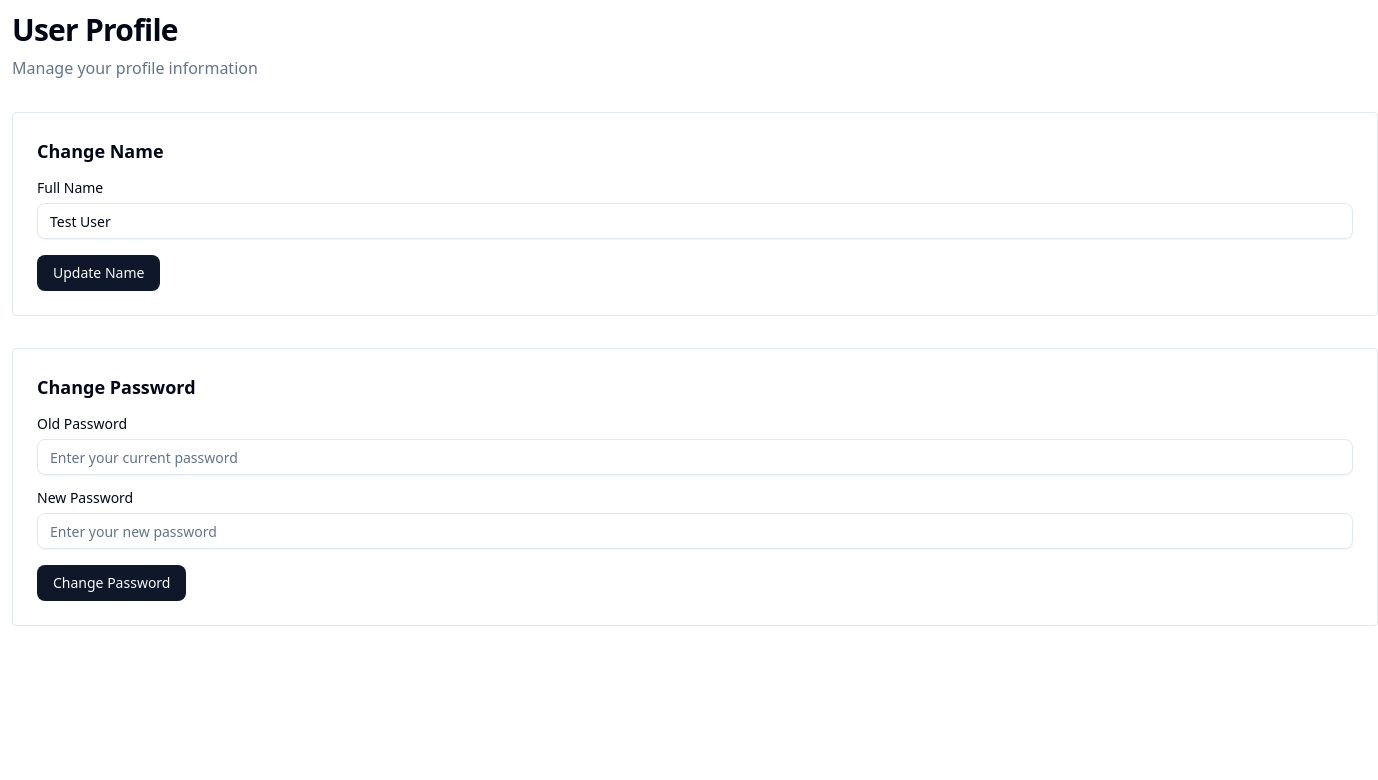
Test case: ProfilePage › shows validation error if new password is too short
Type "oldpass" into the password field labelled "Old Password".
click(695, 457); type("oldpass")  # box [37,439,1353,475]
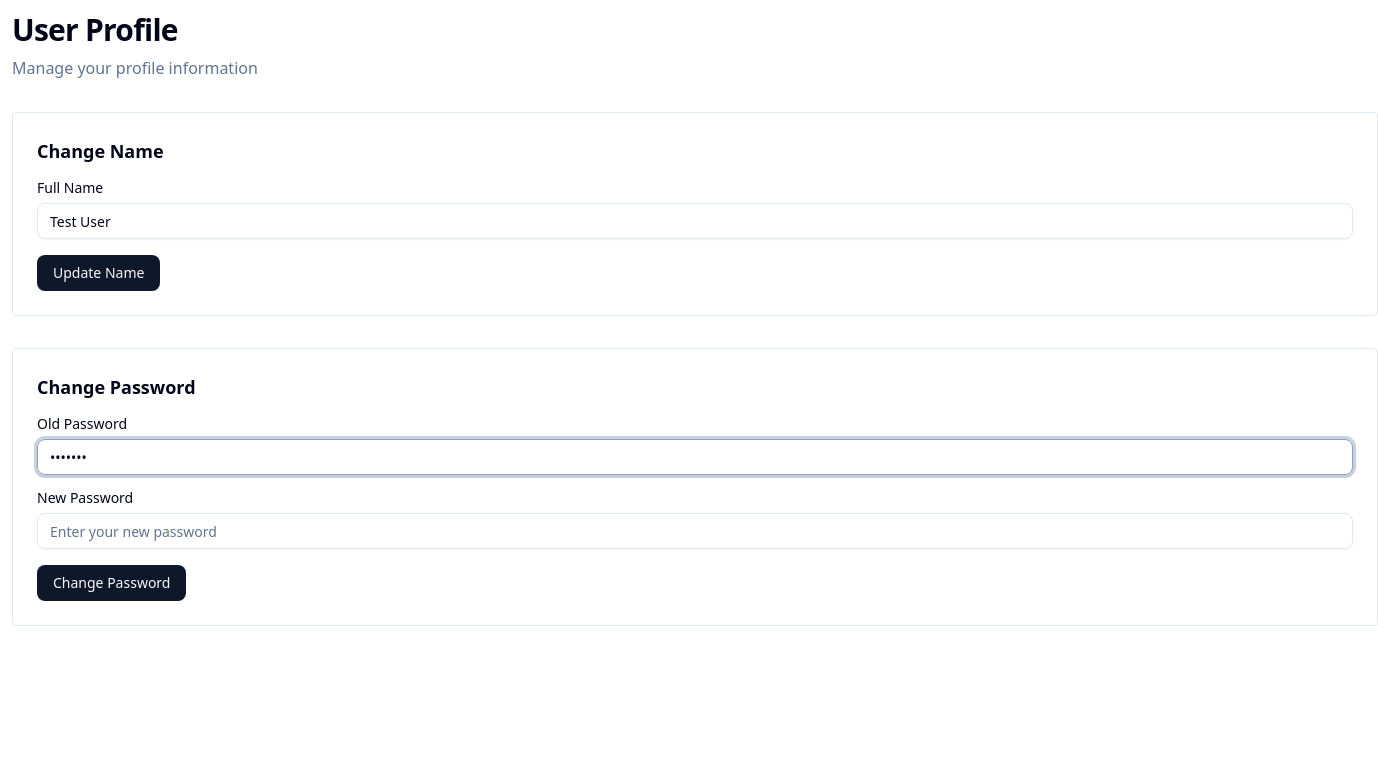
Type "123" into the password field labelled "New Password".
click(695, 531); type("123")  # box [37,513,1353,549]
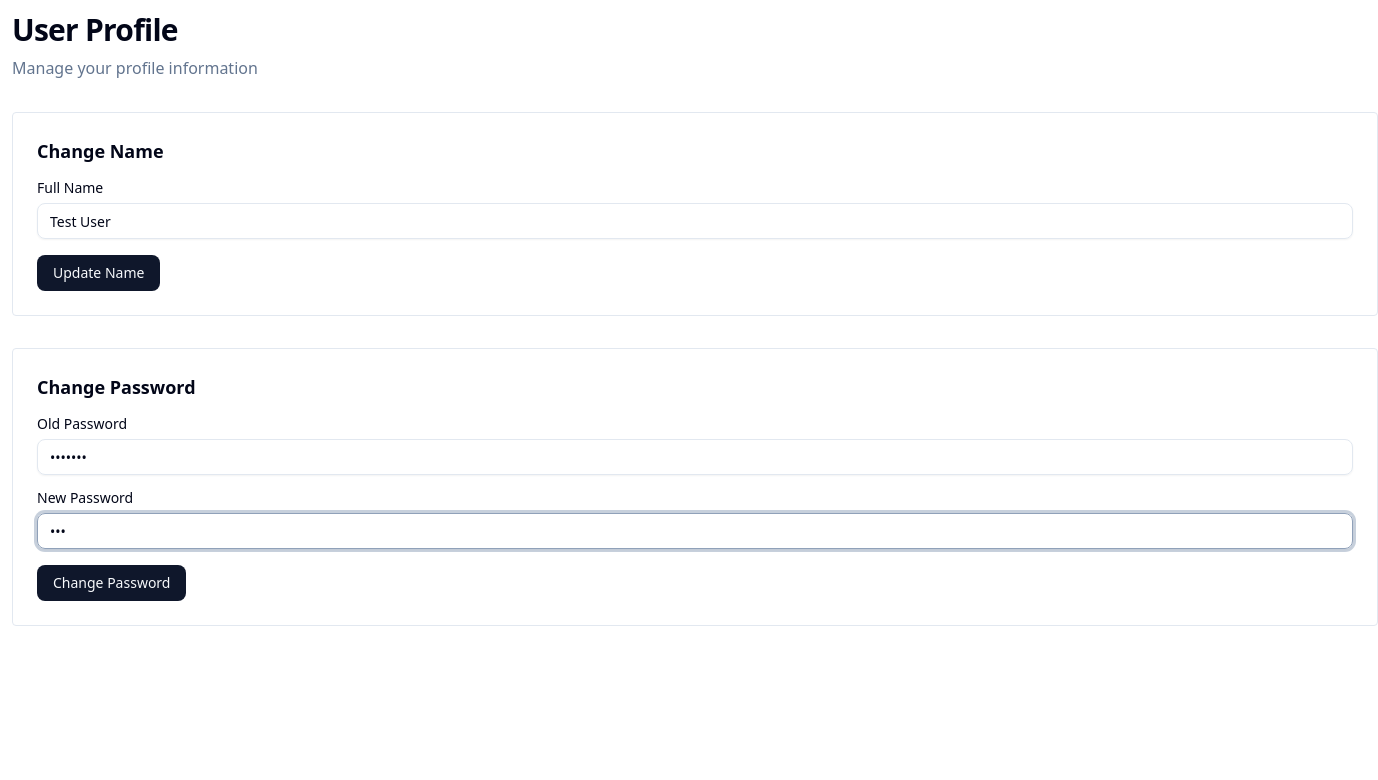
Click the button "Change Password".
click(112, 583)  # box [37,565,186,601]
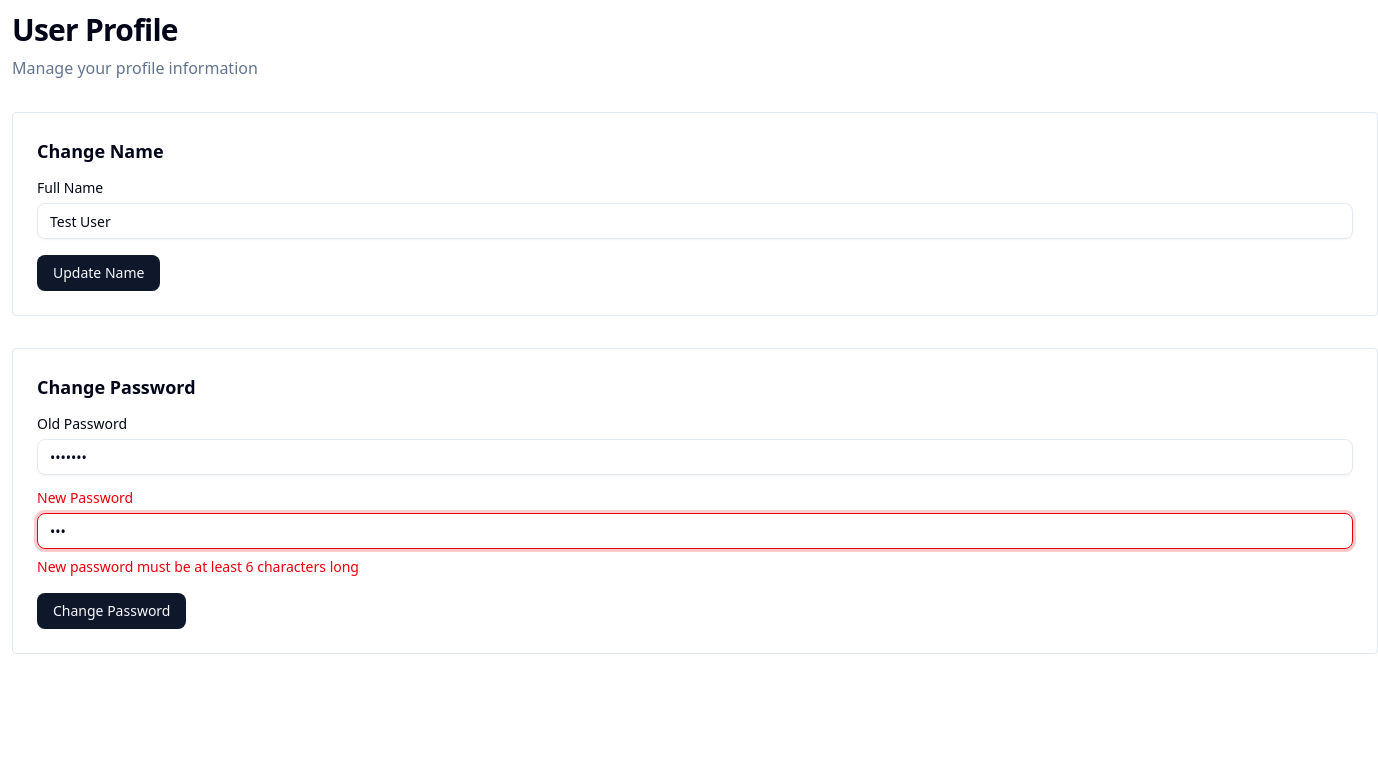
Check: the text "New password must be at least 6 characters long" is shown, box [37,557,359,576]
